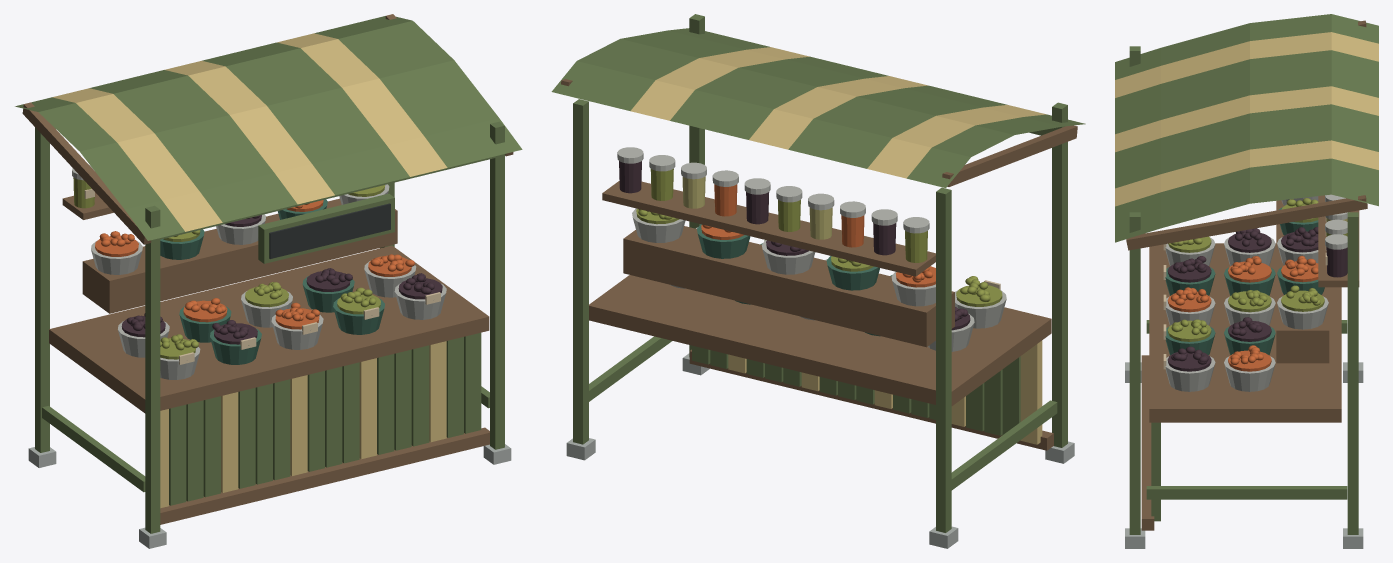
Rendered from olive-near.glb.
The picture shows the model from 3 angles, left to right: view 1: azimuth 30°, elevation 25°; view 2: azimuth 150°, elevation 25°; view 3: azimuth 270°, elevation 25°; orthographic projection. The views are drawn at different scales.
Visible parts, largest first — view 1: Olive Market Stall; view 2: Olive Market Stall; view 3: Olive Market Stall.
Boxes of the visible parts, x1,y1,x2,y2 form: Olive Market Stall: (15,14,522,548); Olive Market Stall: (551,14,1085,548); Olive Market Stall: (1115,14,1378,548).
Size of the model in its own units: 2.98 by 2.75 by 1.84.
